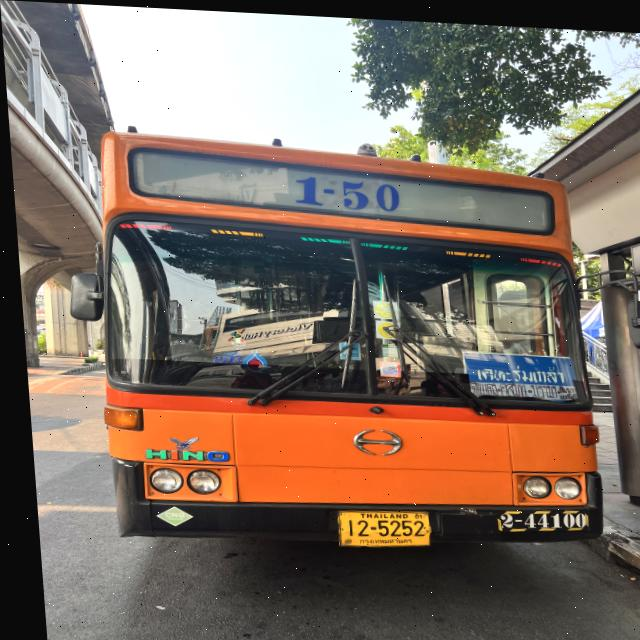BMTA-bus: (88, 130, 598, 547)
Bus Line Number: (286, 163, 403, 213)
Bus Side Number: (490, 501, 586, 530)
Destination Sign: (458, 343, 575, 394)
